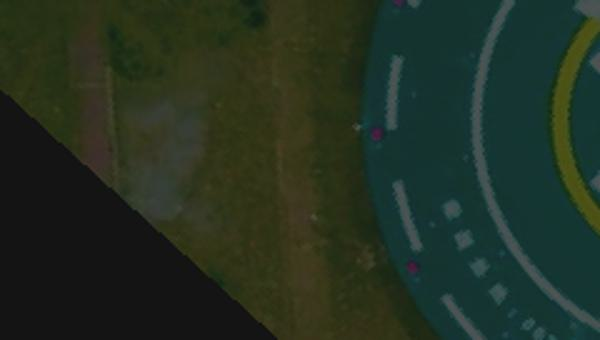Apron: (541, 10, 600, 254)
